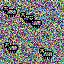sheep: (39, 48, 53, 60), (3, 6, 17, 17), (20, 12, 34, 23), (4, 42, 18, 53), (28, 17, 42, 27)
